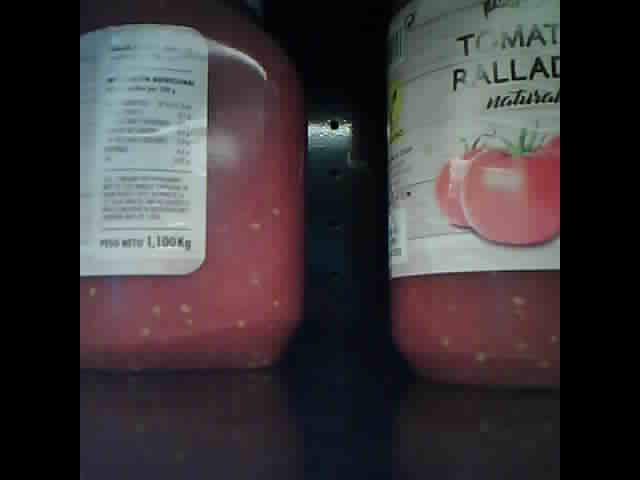tomate: (82, 3, 309, 373), (389, 2, 559, 388)
